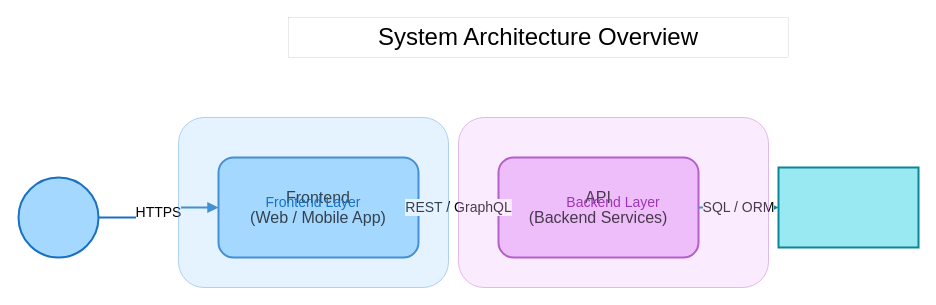
This 936x305 diagram has some shape labels left out. Here are the shapes that lost their labels. From the top down, the centre of each, then its label:
point 58,217: User
point 848,207: Database
